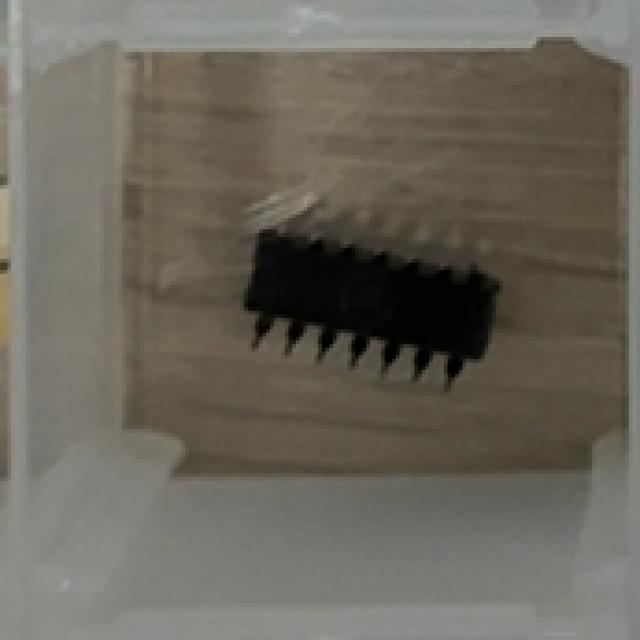IC: (244, 200, 500, 385)
